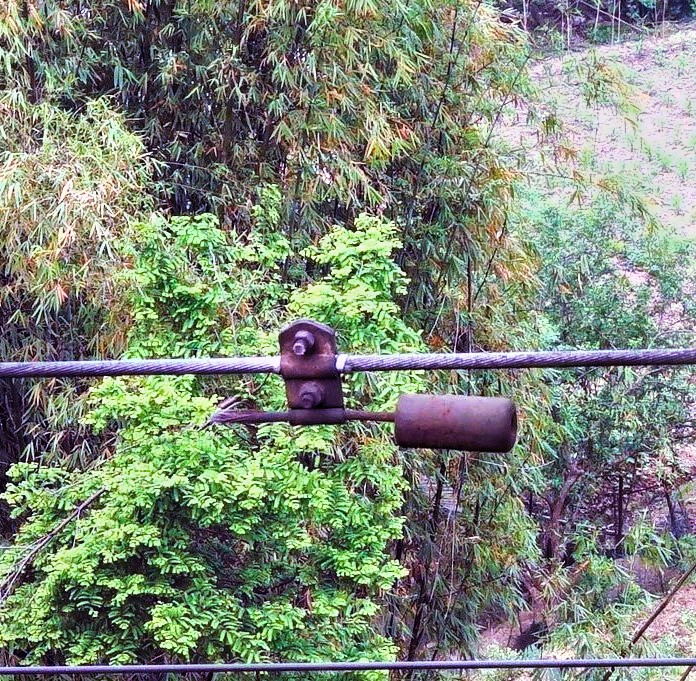Damage of shockproof hammer: (201, 310, 525, 460)
